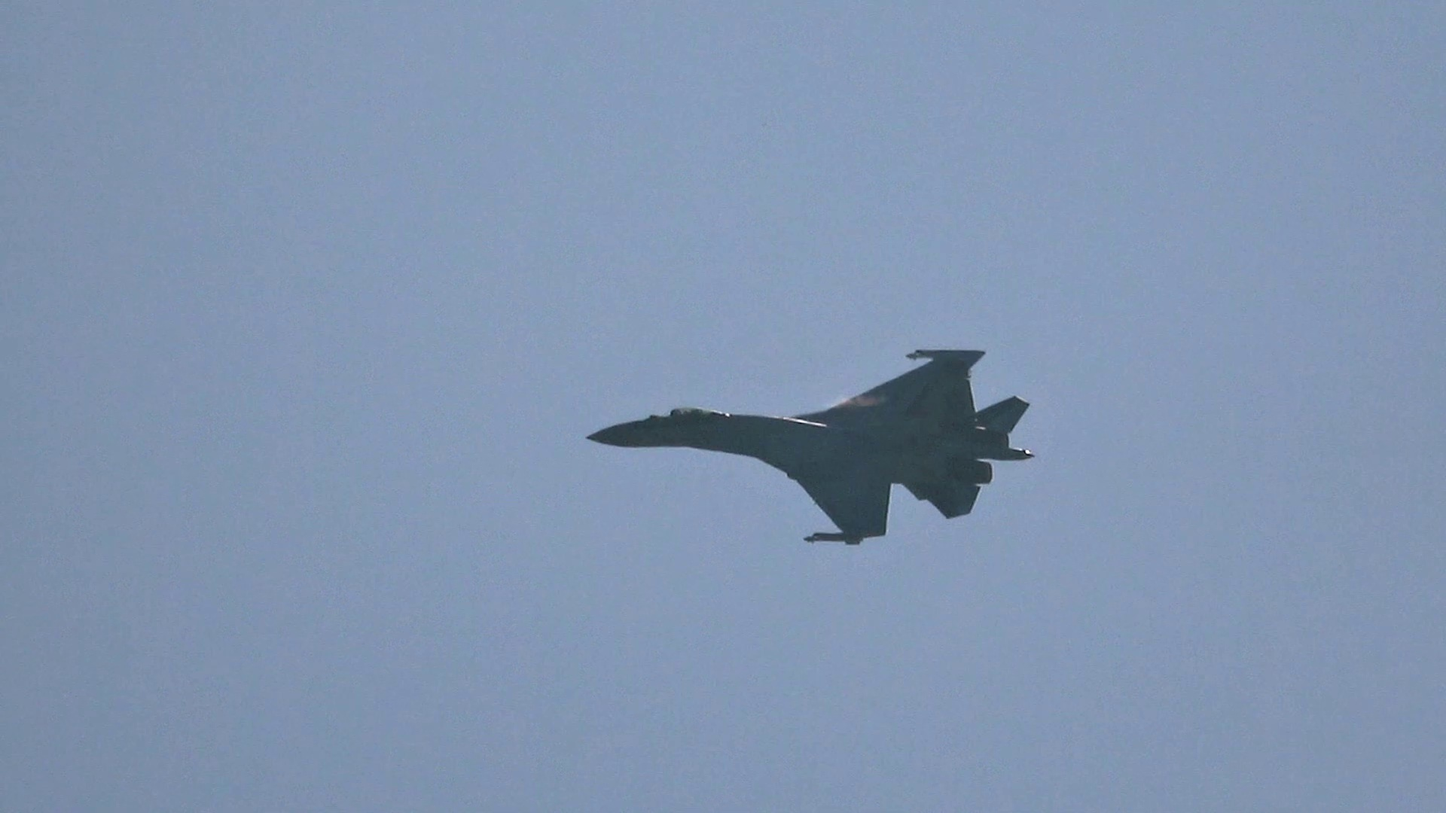Su35: (587, 347, 1036, 546)
